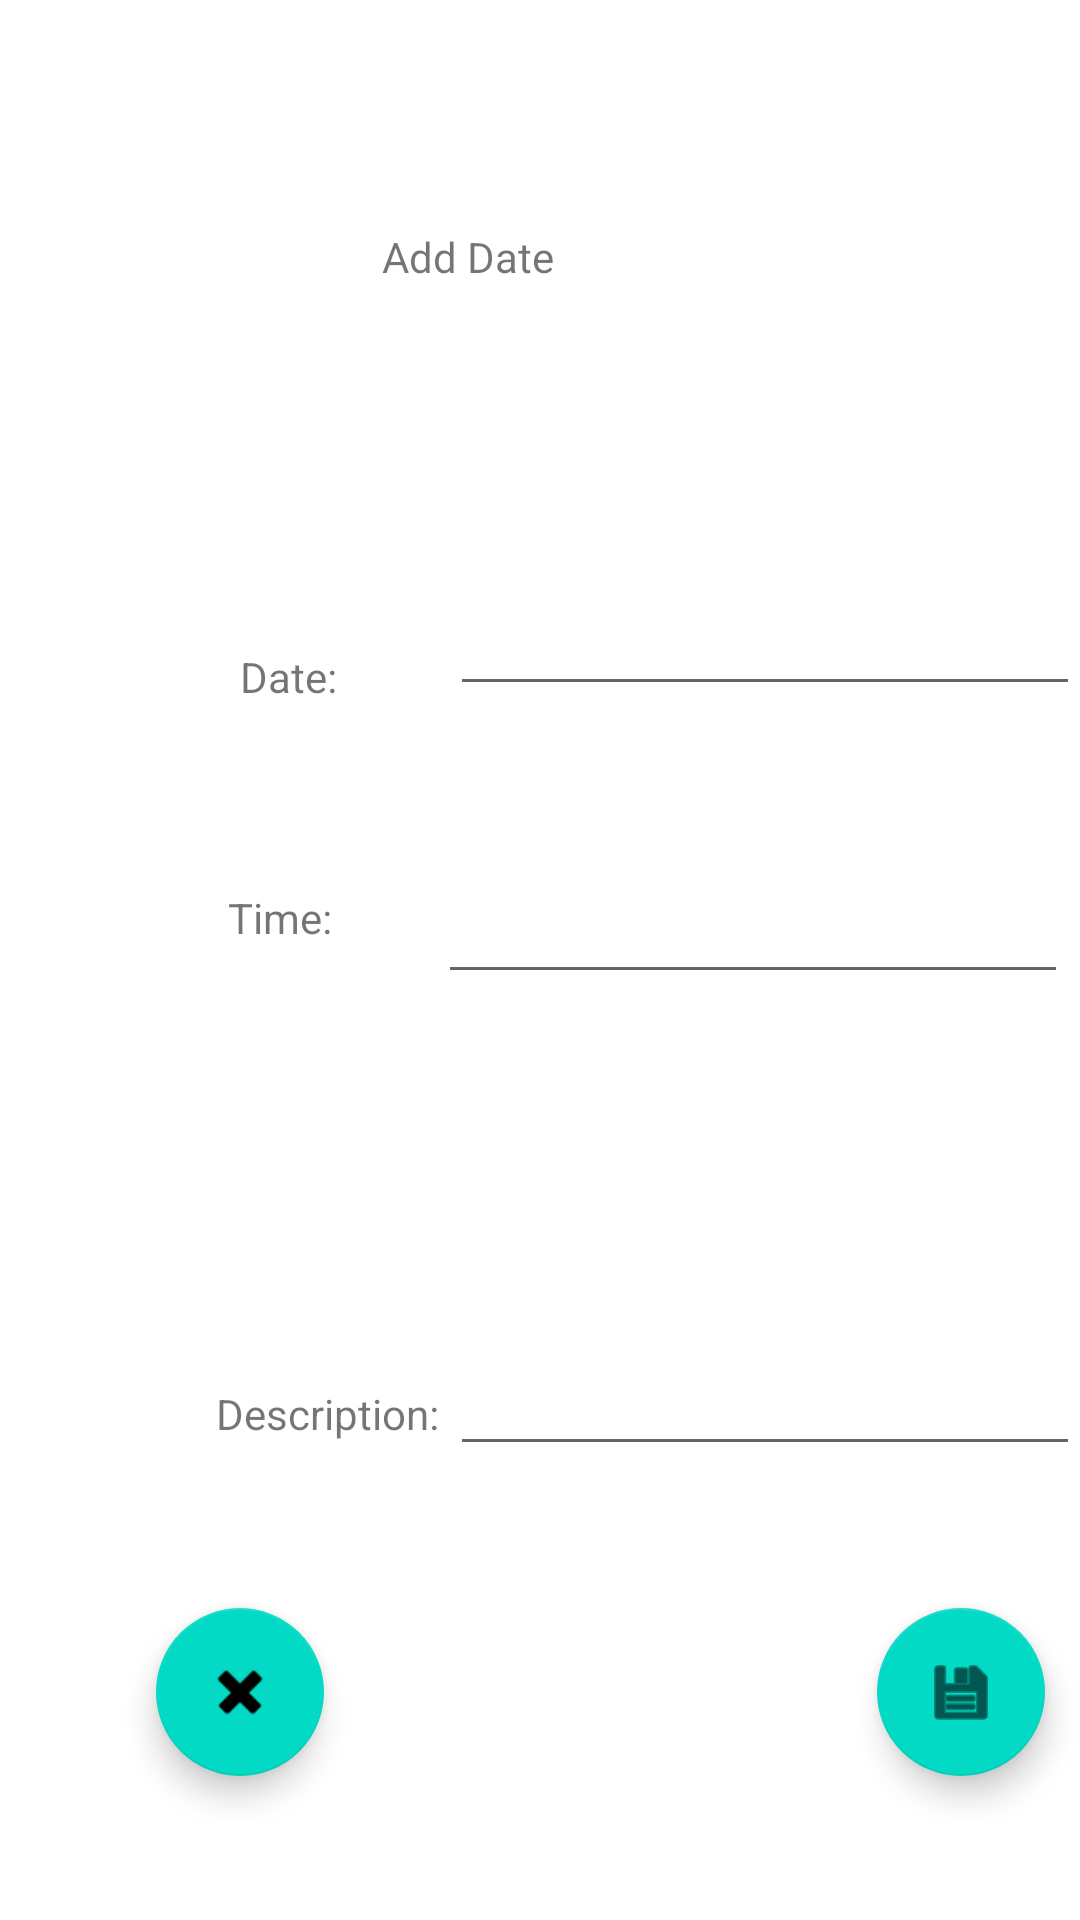

Icon click points for this 1080*1920 phone screenshot, format (x,y):
delete: (240,1692)
save: (961,1692)
